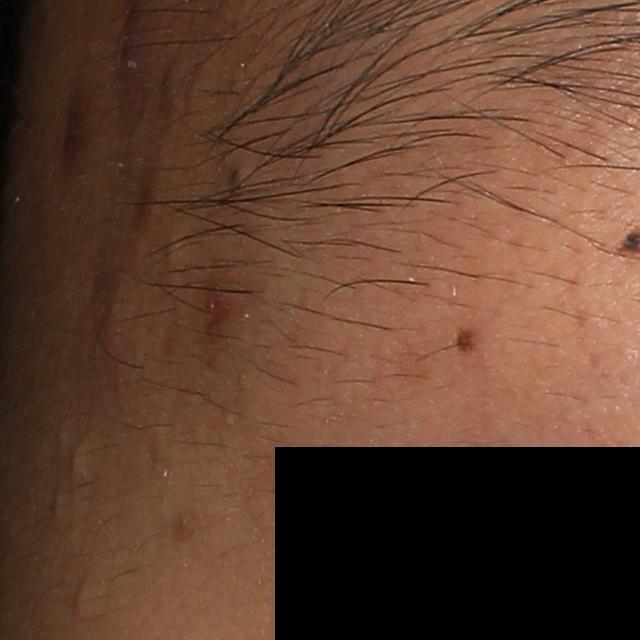comedo: (69, 441, 89, 473), (70, 584, 89, 613)
nevus: (451, 324, 476, 357)
